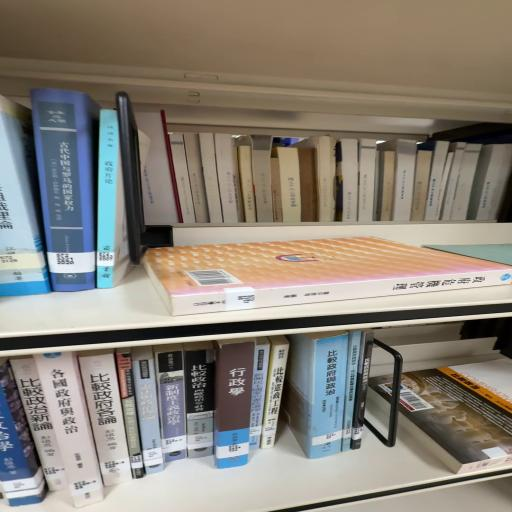flat: (143, 237, 512, 315), (401, 355, 512, 474)
